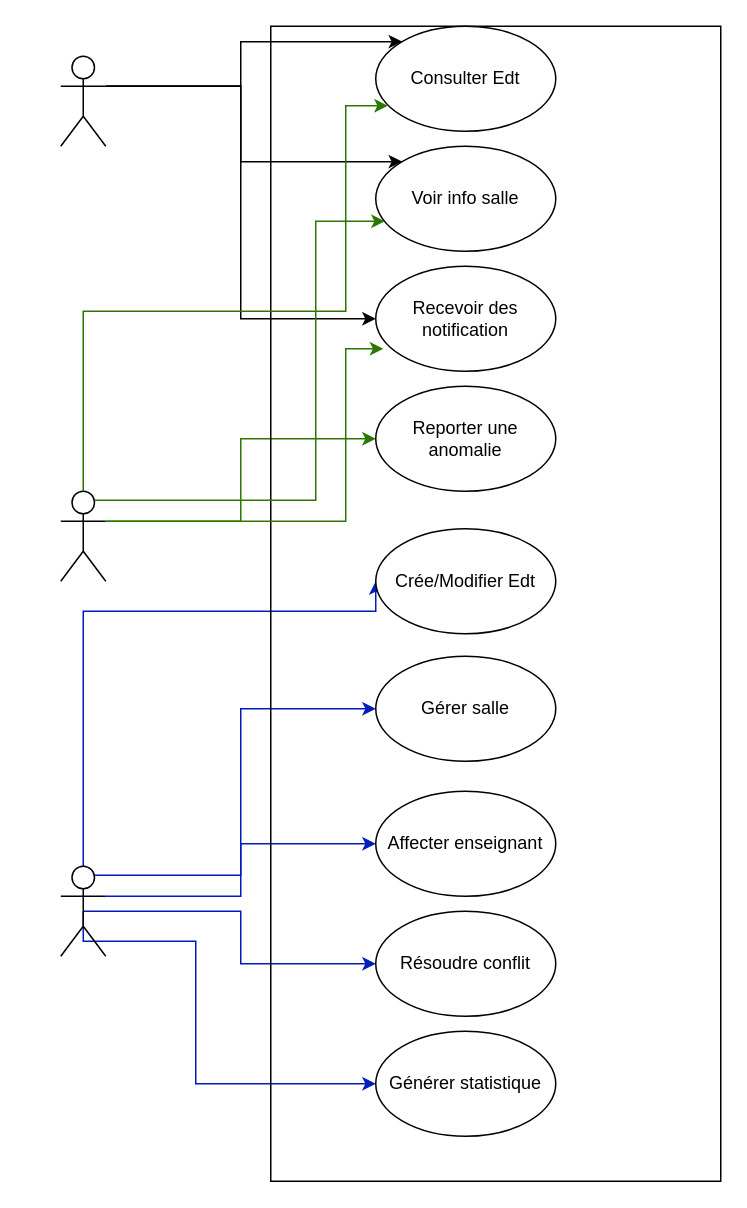
The diagram is 747 pixels wide and 1208 high, and some of its shapes have lost their labels. Here are the shapes that lost their labels. From the top down, the centre of each, then its label:
the point at 82,100: Etudiant
the point at 82,535: Enseignant
the point at 82,910: Administrateur
